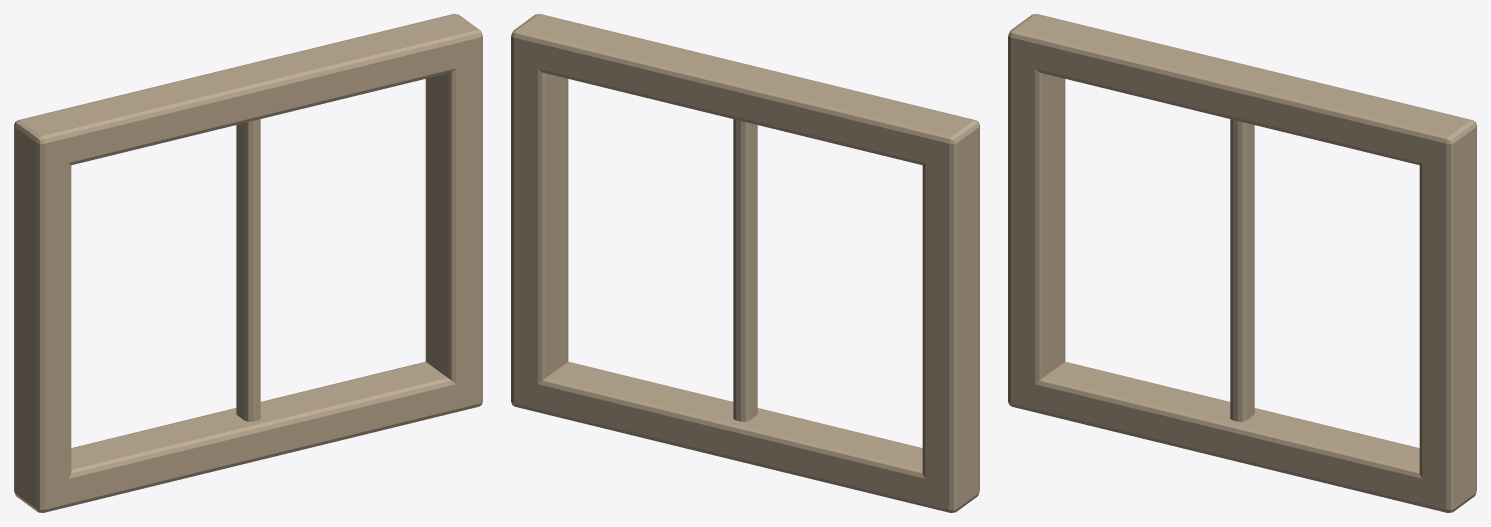
Rendered from window-0-lod0.glb.
The picture shows the model from 3 angles, left to right: view 1: azimuth 30°, elevation 25°; view 2: azimuth 150°, elevation 25°; view 3: azimuth 330°, elevation 25°; orthographic projection.
Visible parts, largest first — view 1: Window sill.001, Window sill, Window jamb, Window jamb.001, Window mullion; view 2: Window sill.001, Window sill, Window jamb, Window jamb.001, Window mullion; view 3: Window sill.001, Window sill, Window jamb.001, Window jamb, Window mullion.
Part boxes in pixels (<box>): Window sill.001: <box>15,14,482,168</box>; Window sill: <box>40,361,482,512</box>; Window jamb: <box>14,120,71,512</box>; Window jamb.001: <box>425,32,482,412</box>; Window mullion: <box>236,119,260,421</box>; Window sill.001: <box>512,14,978,168</box>; Window sill: <box>513,361,950,512</box>; Window jamb: <box>922,116,979,512</box>; Window jamb.001: <box>511,33,568,411</box>; Window mullion: <box>733,119,757,421</box>; Window sill.001: <box>1009,14,1475,168</box>; Window sill: <box>1010,361,1447,512</box>; Window jamb.001: <box>1419,120,1476,512</box>; Window jamb: <box>1008,33,1065,411</box>; Window mullion: <box>1230,119,1254,421</box>.
Bounding box in the file's own units: 1.3 × 1.05 × 0.14.
